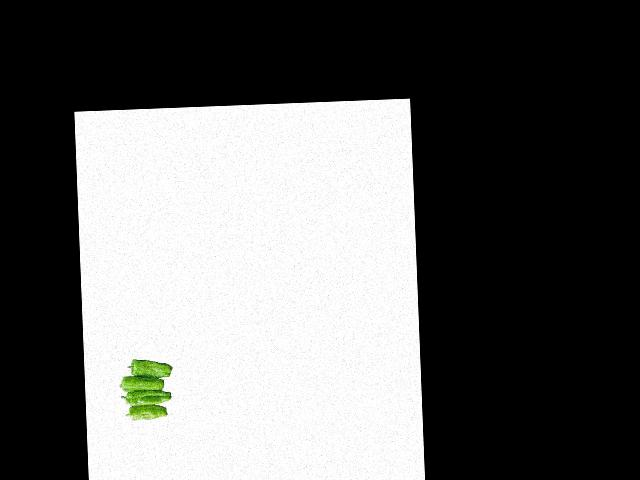bell_pepper: (124, 357, 176, 379)
